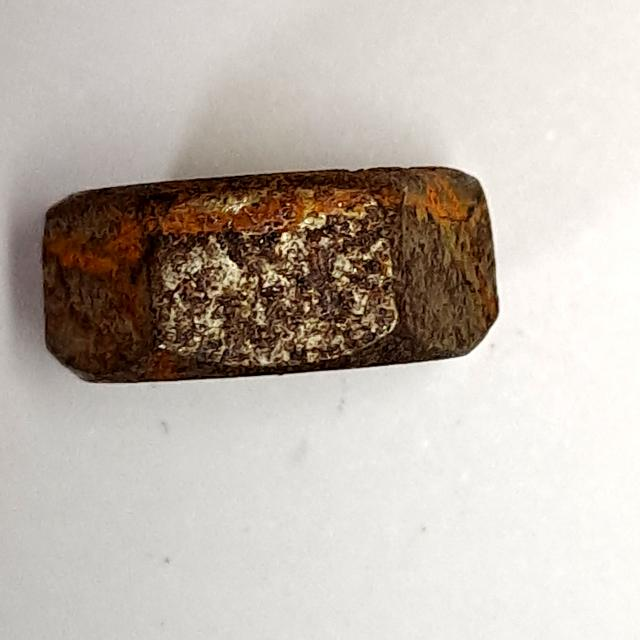Side_Rust: (29, 149, 530, 405)
